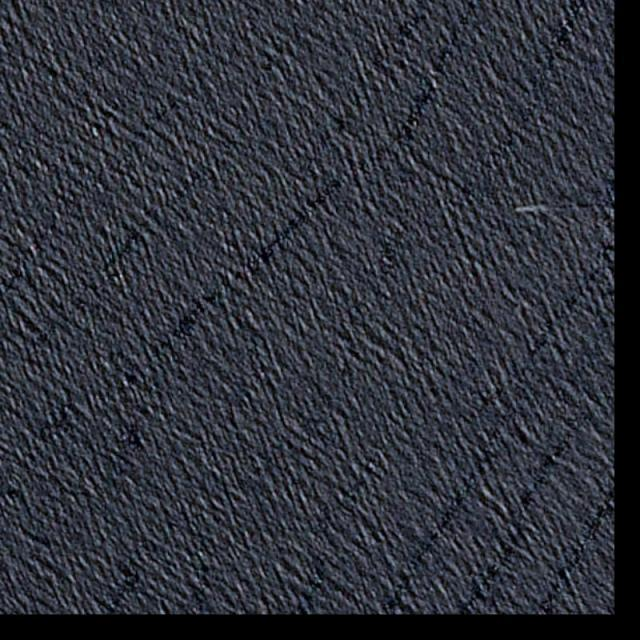ship: (512, 204, 527, 214)
